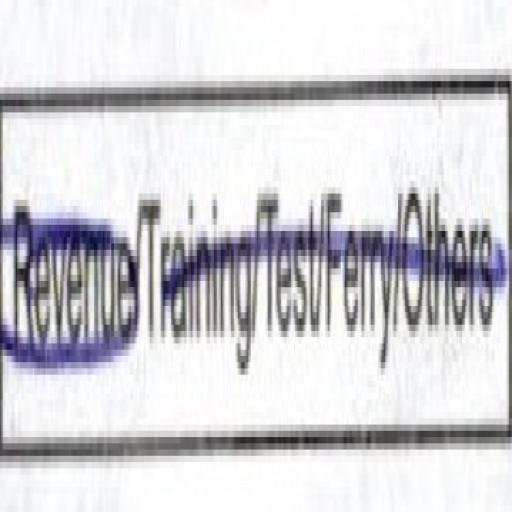check: (0, 20, 140, 508)
